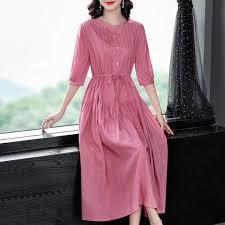dress: (65, 10, 168, 217)
